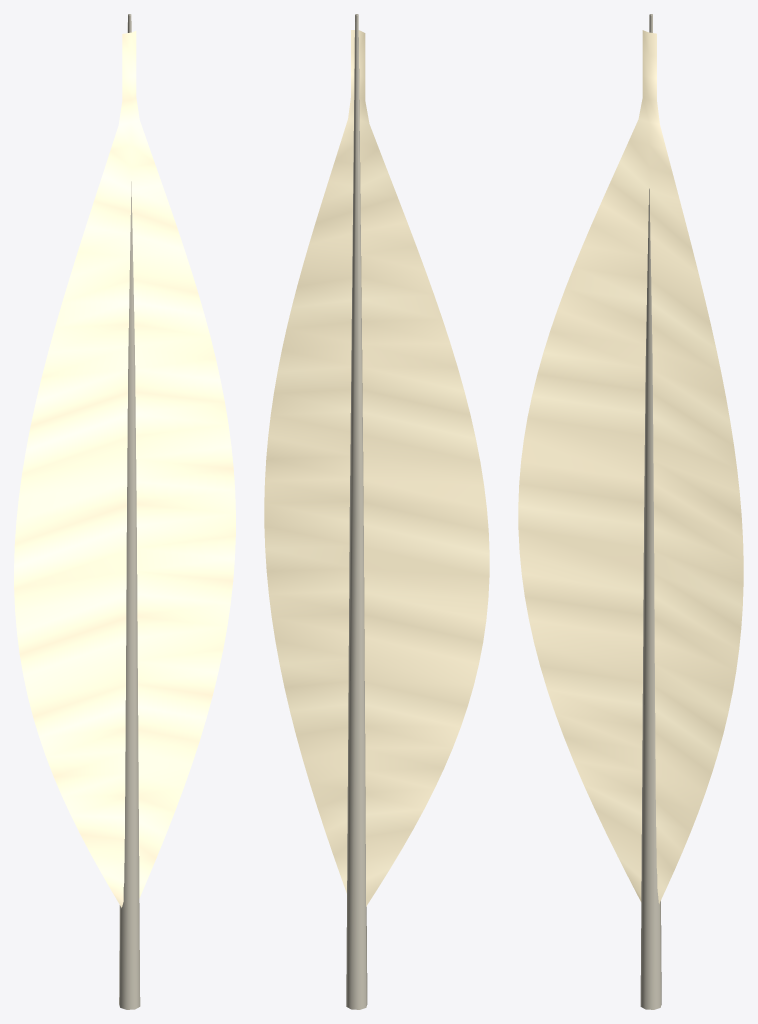
File: feather_angel.glb
The picture shows the model from 3 angles, left to right: view 1: azimuth 30°, elevation 25°; view 2: azimuth 150°, elevation 25°; view 3: azimuth 330°, elevation 25°; orthographic projection.
Visible parts, largest first — view 1: feather_angel; view 2: feather_angel; view 3: feather_angel.
Part boxes in pixels (x1,y1,x2,y2): feather_angel: [14, 14, 235, 1009]; feather_angel: [264, 14, 489, 1009]; feather_angel: [518, 14, 743, 1009].
Bounding box in the file's own units: 0.2298 × 0.9729 × 0.025.
